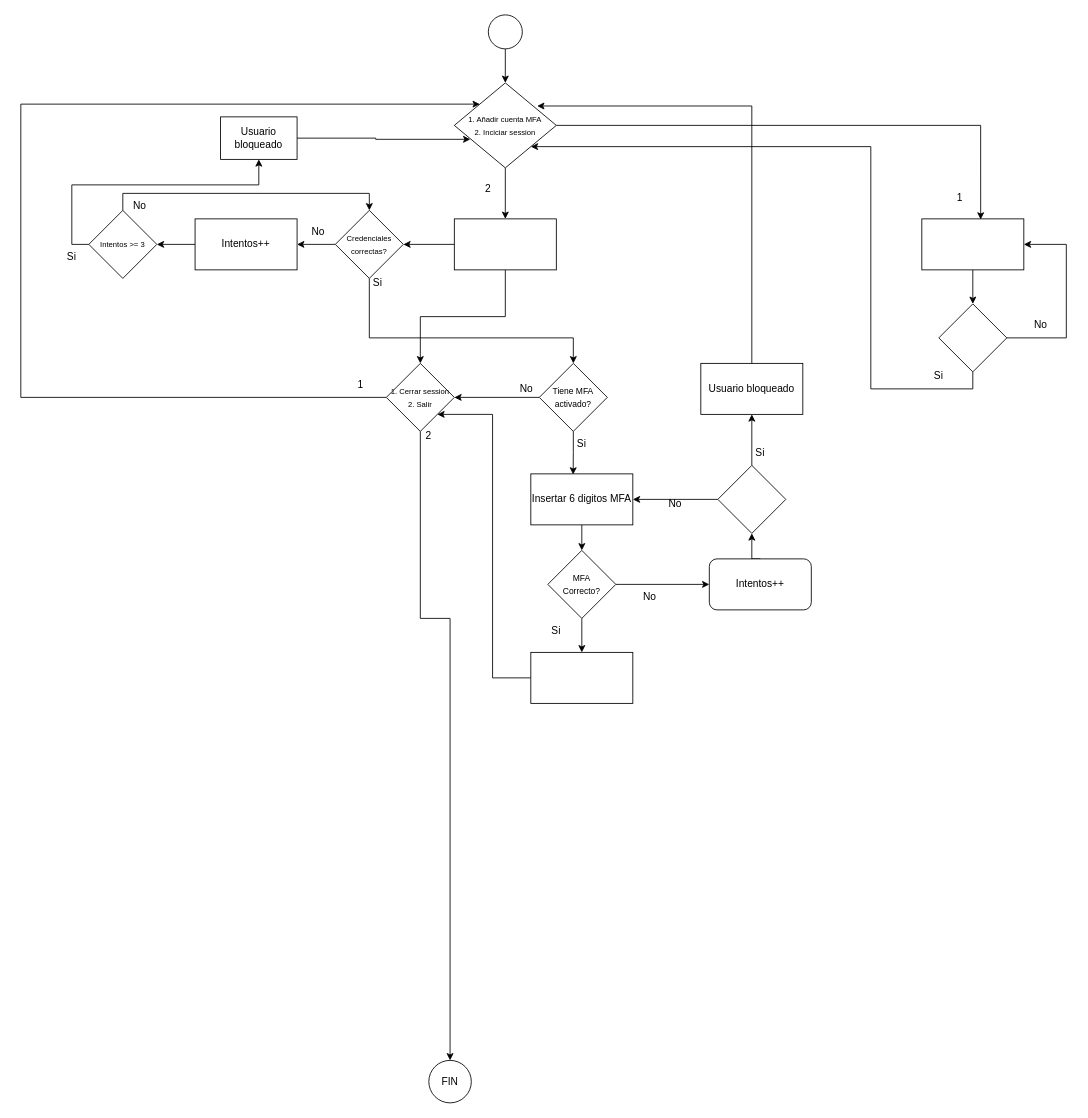
Image size: 1088x1118. Some labels were removed from this diagram. The centre of each missing label's shape, as x and y in pixels:
"Correcto?" belongs at (972,337).
"Inicio" belongs at (504,31).
"Intentos >= 2" belongs at (751,499).
"Pedir usuario i correo" belongs at (972,244).
"Pedir usuario/correo i contraseña" belongs at (504,244).
"Session iniciada" belongs at (581,677).
